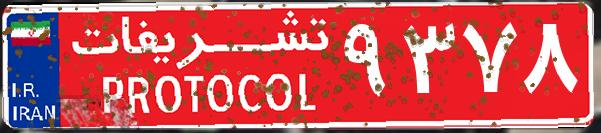3: (400, 20, 460, 115)
7: (460, 20, 520, 115)
8: (520, 20, 580, 115)
9: (340, 20, 400, 115)
تشریفات: (60, 8, 340, 125)
